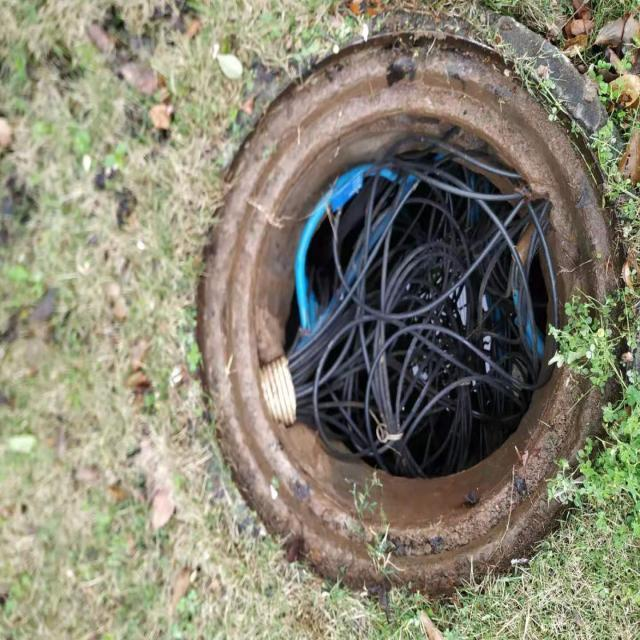Faulty: (198, 6, 622, 604)
